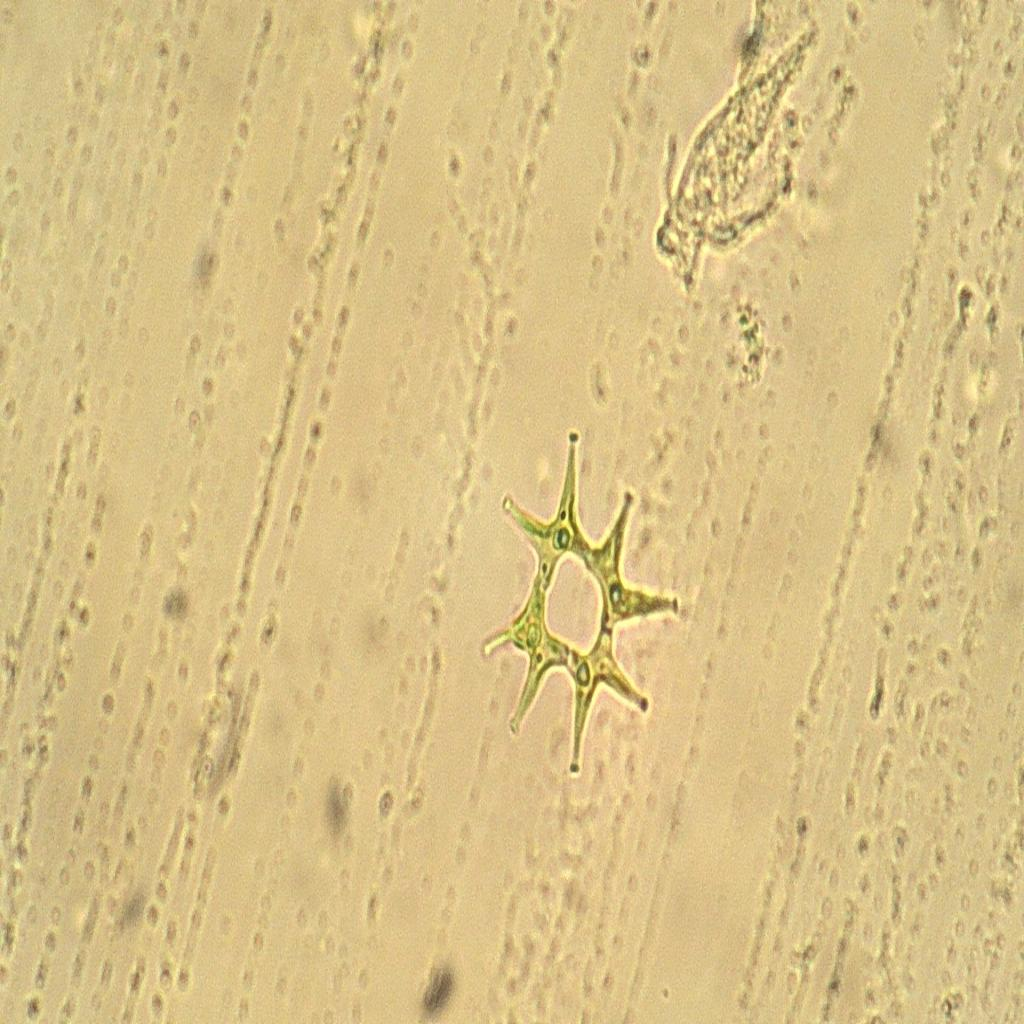Pediastrum_CO: (463, 420, 708, 784)
